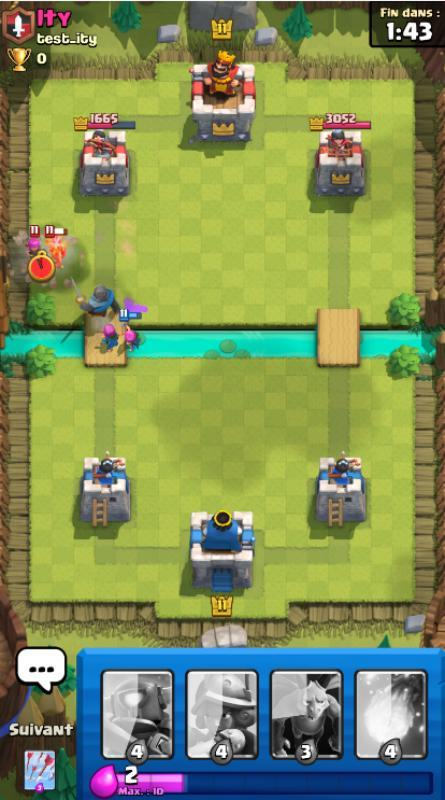archere: (45, 224, 68, 269), (119, 309, 142, 353), (97, 323, 120, 353), (24, 225, 41, 257)
chevalier: (70, 274, 120, 319)
